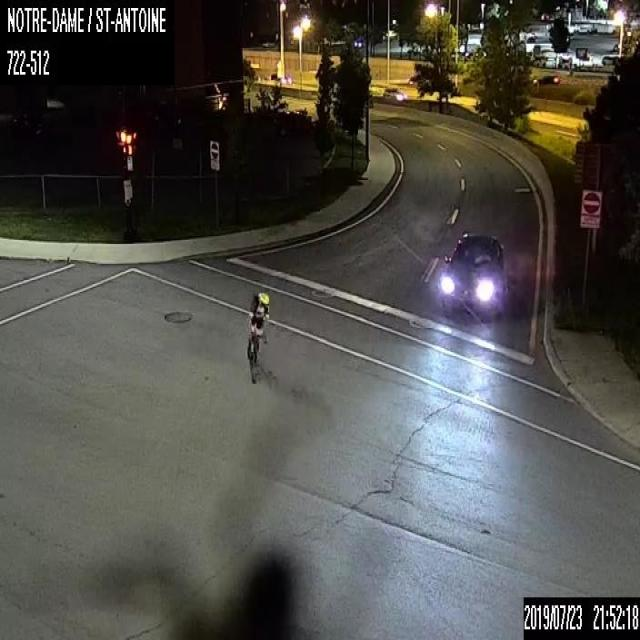cyclist: (245, 289, 269, 384)
vehicle: (439, 233, 504, 316), (381, 87, 406, 100)
